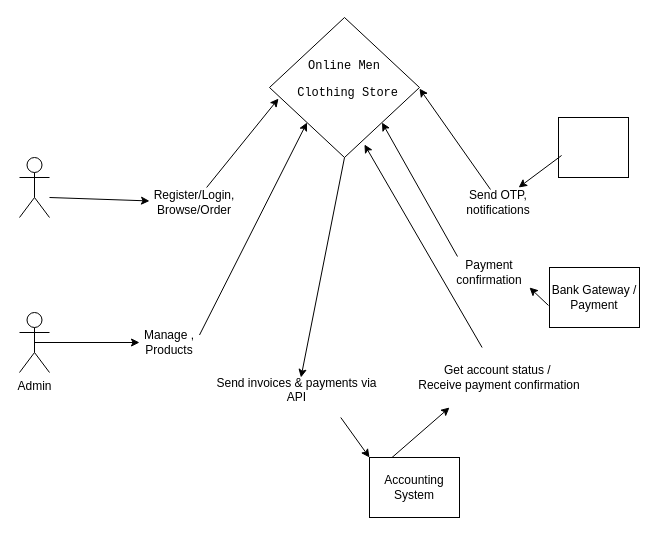
This 657x535 diagram has some shape labels left out. The centre of each missing label's shape, as x and y in pixels:
SMS Provider: (x=593, y=147)
Users: (x=34, y=187)
